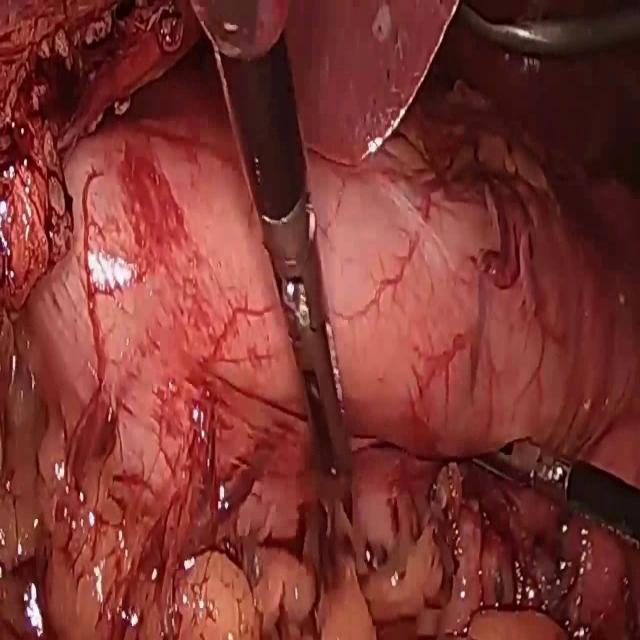surgical-tool: (193, 0, 352, 501), (472, 438, 640, 548)
